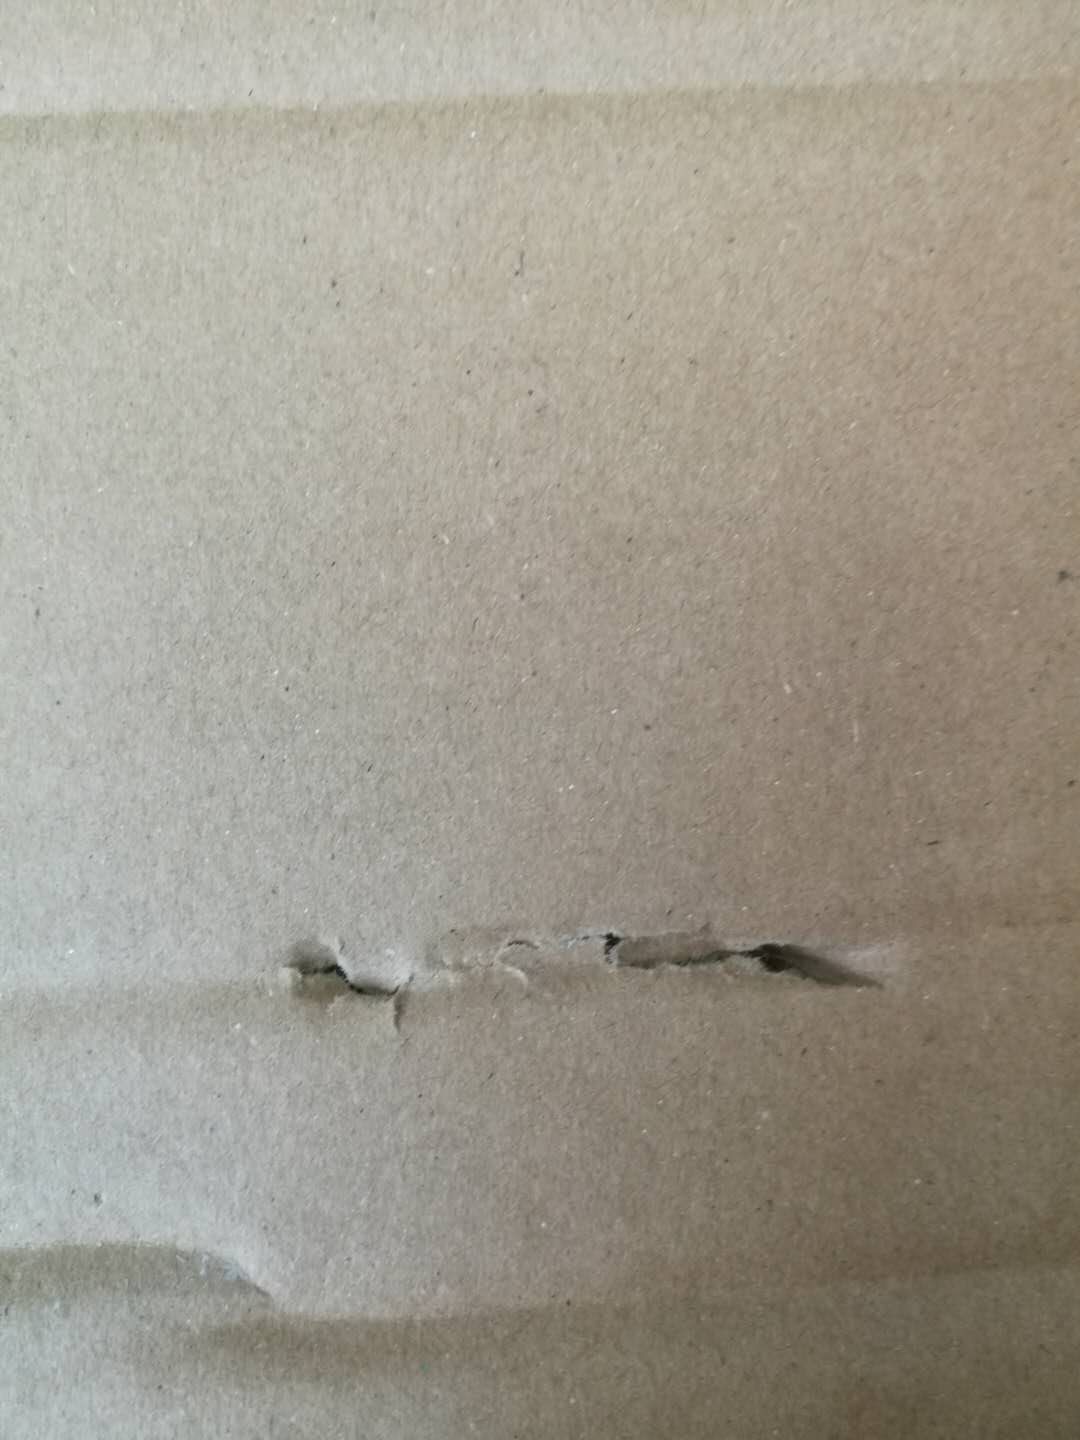defect: (1, 1170, 1080, 1422), (3, 850, 1080, 1074), (1, 33, 1080, 188)
